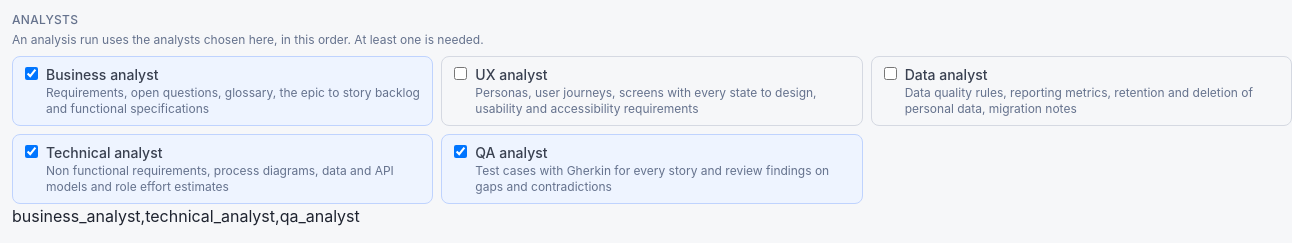
Test case: analyst picker › places the UX and data analysts after the business analyst
Click the checkbox labelled "Data analyst" at (890, 74), box 884,67 -> 897,80
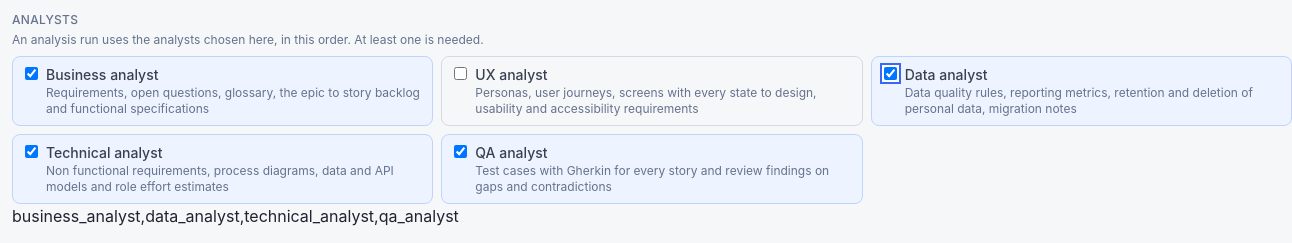
Click the checkbox labelled "UX analyst" at (461, 74), box 454,67 -> 467,80
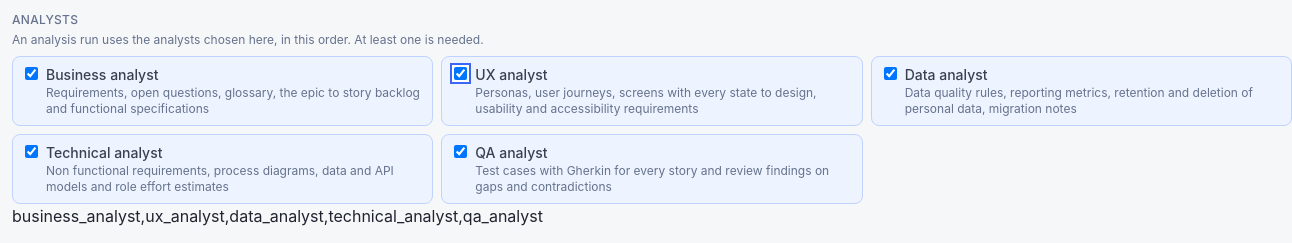
Result: the text "business_analyst,ux_analyst,data_analyst,technical_analyst,qa_analyst" is shown at 12,206 -> 543,226
